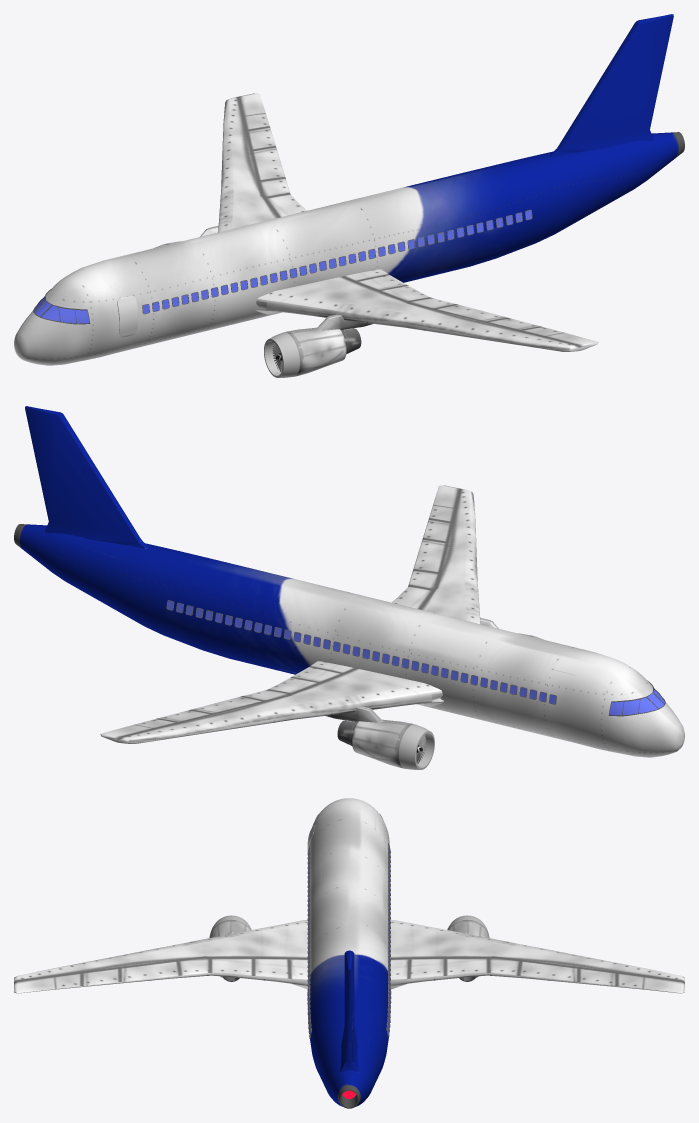
The picture shows the model from 3 angles, top to bottom: view 1: azimuth 30°, elevation 25°; view 2: azimuth 150°, elevation 25°; view 3: azimuth 270°, elevation 25°; orthographic projection.
Visible parts, largest first — view 1: Cylinder, Cube.001, Cylinder.001, Windows, Cube; view 2: Cylinder, Cube.001, Cylinder.001, Windows; view 3: Cylinder, Cube.001, Cylinder.001, Windows.
Part boxes in pixels (x1=…): Cylinder: x1=14, y1=14, x2=684, y2=365; Cube.001: x1=218, y1=93, x2=598, y2=351; Cylinder.001: x1=154, y1=226, x2=372, y2=377; Windows: x1=142, y1=209, x2=532, y2=314; Cube: x1=117, y1=296, x2=138, y2=337; Cylinder: x1=14, y1=406, x2=684, y2=757; Cube.001: x1=100, y1=485, x2=480, y2=743; Cylinder.001: x1=325, y1=618, x2=543, y2=769; Windows: x1=166, y1=600, x2=556, y2=704; Cylinder: x1=309, y1=798, x2=389, y2=1108; Cube.001: x1=14, y1=919, x2=684, y2=993; Cylinder.001: x1=209, y1=915, x2=489, y2=981; Windows: x1=307, y1=843, x2=391, y2=1038.
Size of the model in its own units: 270 by 81.76 by 241.
